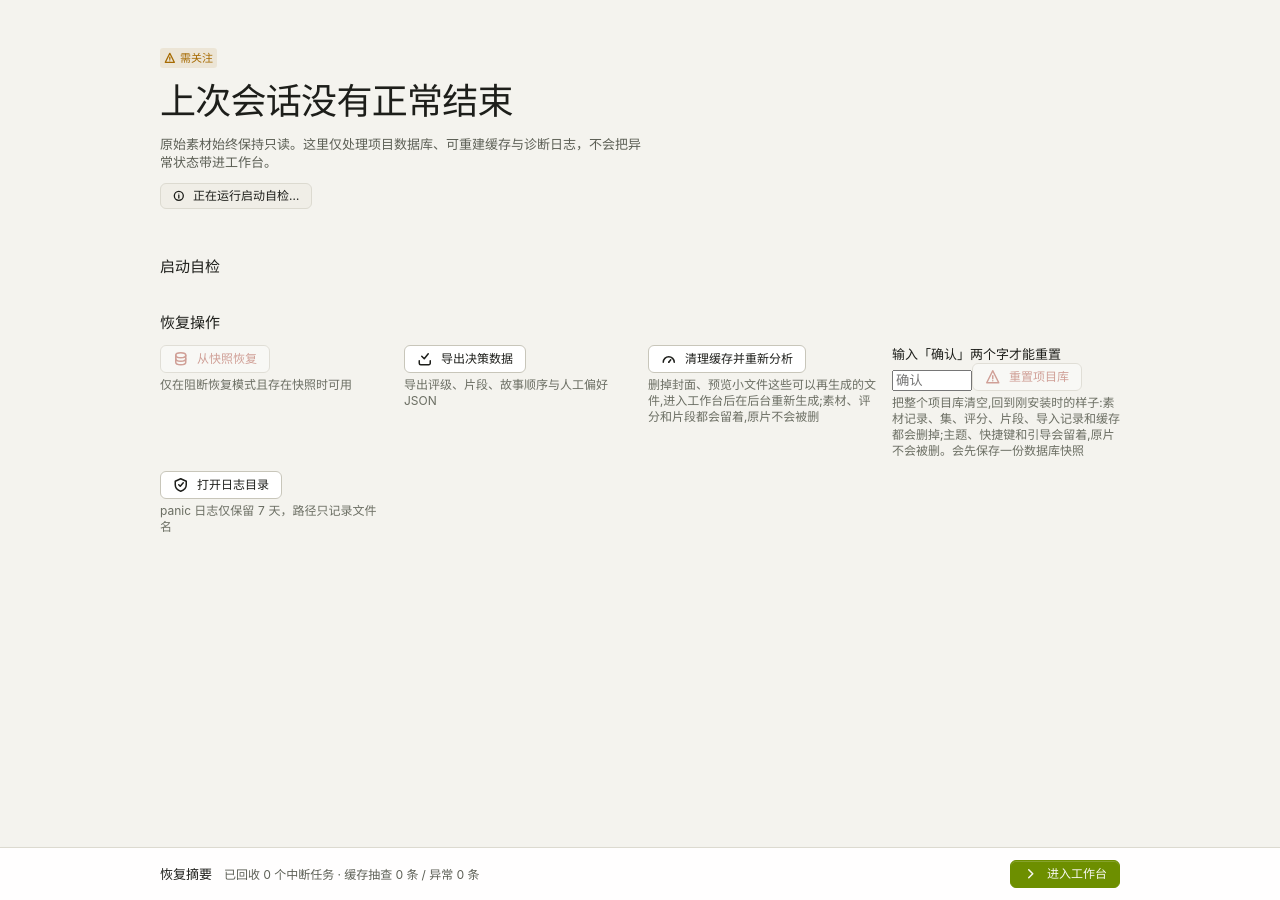
Test case: R12 §1 → R19 V-02:新壳没有工具链弹窗,必需组件缺失只在状态条左端出红点 + 一句(R10 U-23 的「不叠弹窗」由此成立) › 异常退出 → 恢复页 → 进入工作台:没有弹窗叠上来;红点照常(它不是模态)
Click the button "进入工作台": {"x": 1065, "y": 874} [1010, 860, 1120, 888]
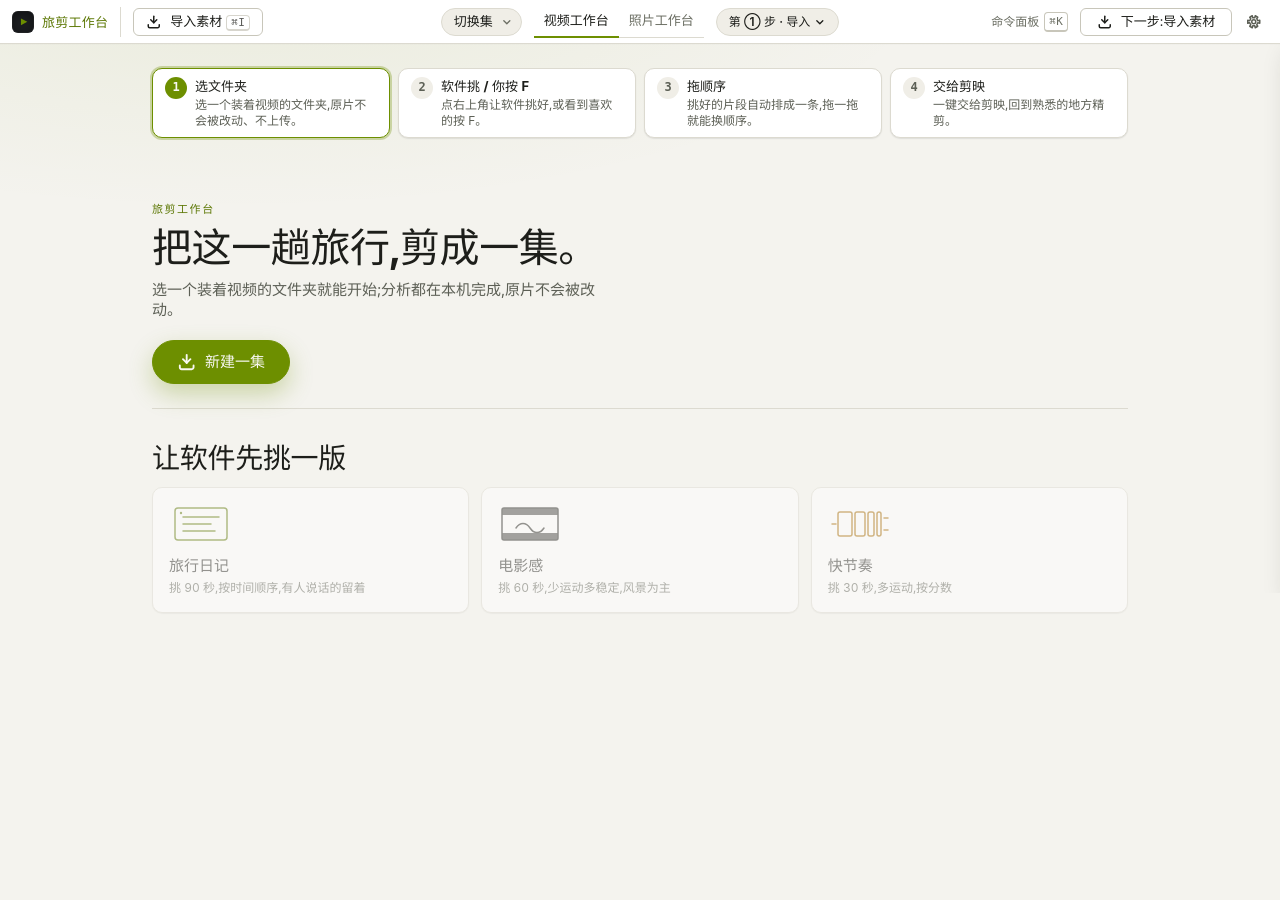
Expected: the element "媒体池" is shown, [0, 44, 320, 593]
